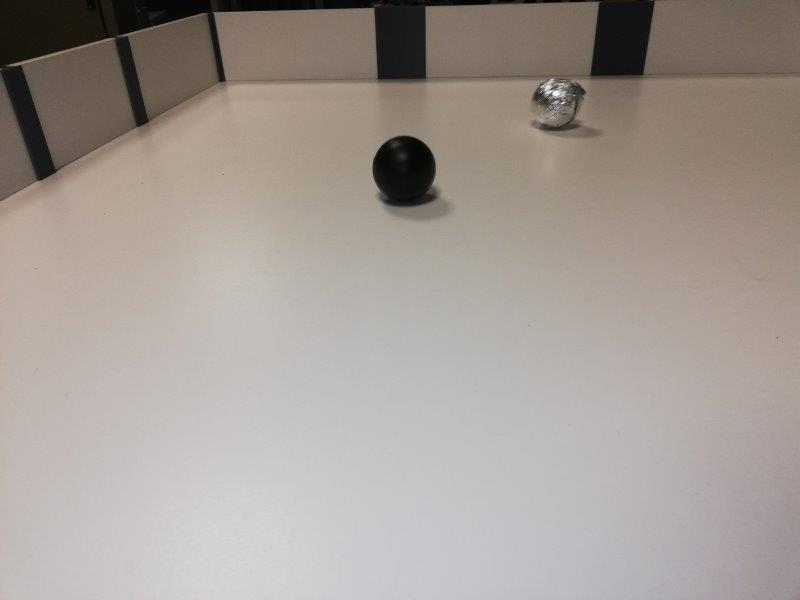bianca: (530, 76, 585, 130)
nera: (371, 135, 435, 202)
